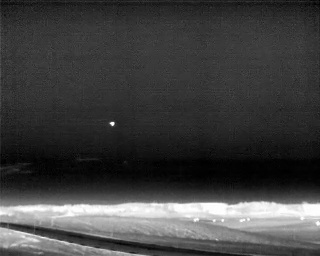BIRD: (108, 118, 117, 129)
